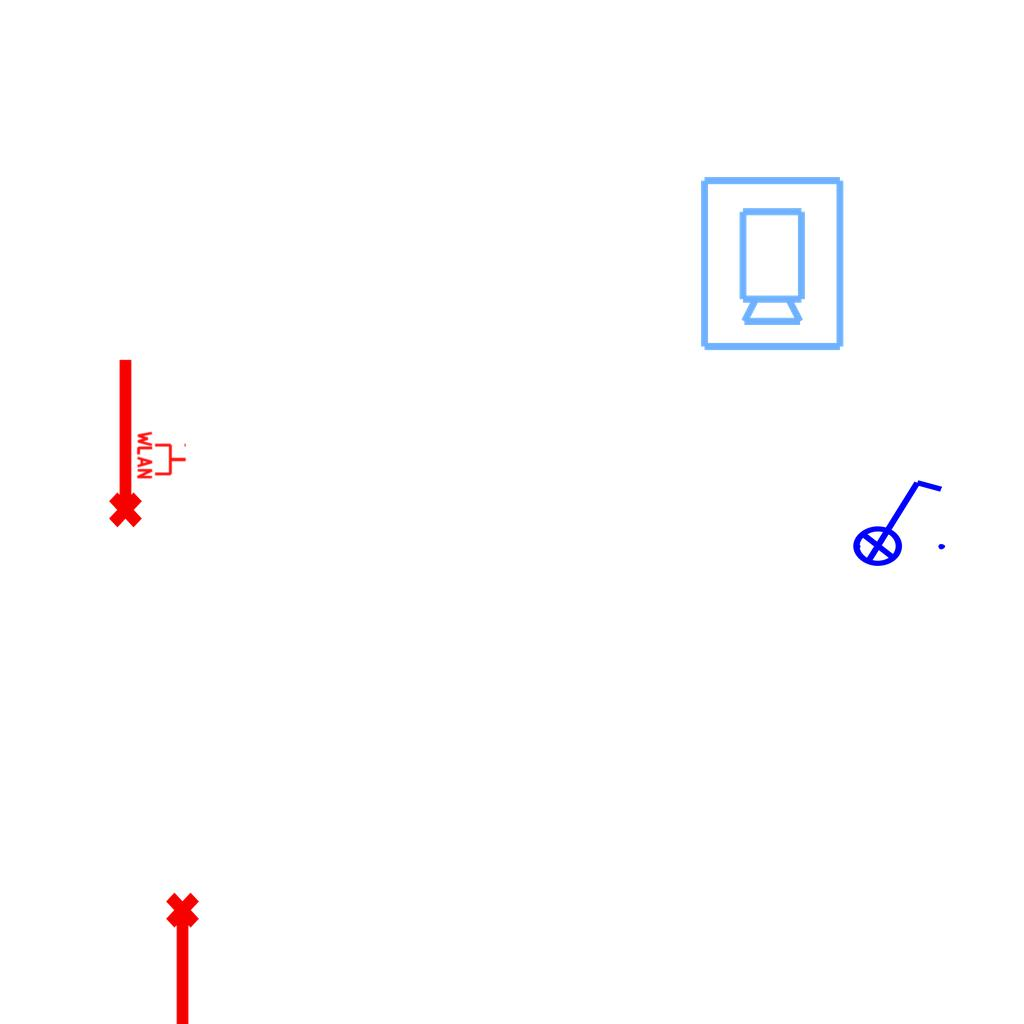ASR_Ansaugoeffnung: (100, 354, 146, 530), (162, 890, 208, 1024)
Ausschalter_beleuchtet: (839, 472, 951, 568)
KFO_Kamera_mit_Festobjektiv: (694, 172, 848, 354)
WLAN: (136, 429, 188, 481)
